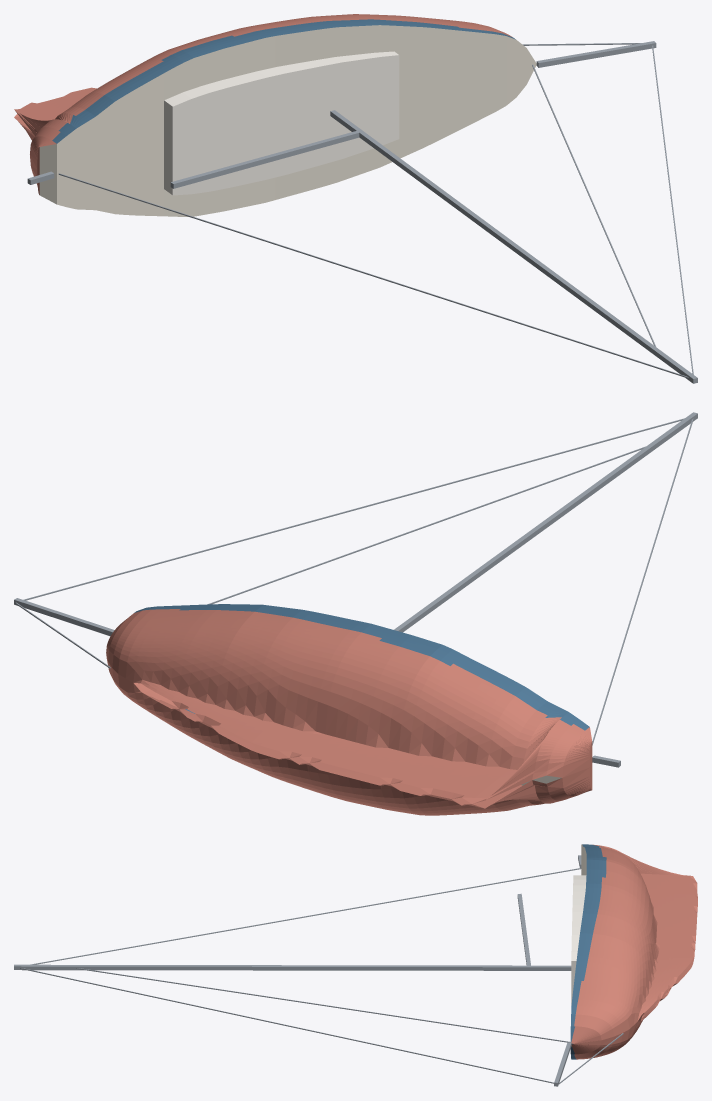
Rendered from hans-christian-38t-lines.glb.
The picture shows the model from 3 angles, top to bottom: view 1: azimuth 30°, elevation 25°; view 2: azimuth 150°, elevation 25°; view 3: azimuth 270°, elevation 25°; orthographic projection. The views are drawn at different scales.
Visible parts, largest first — view 1: Hans Christian 38T; view 2: Hans Christian 38T; view 3: Hans Christian 38T.
Boxes of the visible parts, x1,y1,x2,y2 form: Hans Christian 38T: (14, 14, 697, 383); Hans Christian 38T: (14, 412, 697, 815); Hans Christian 38T: (14, 844, 697, 1086).
Bounding box in the file's own units: 2.53 × 0.6526 × 3.21.
